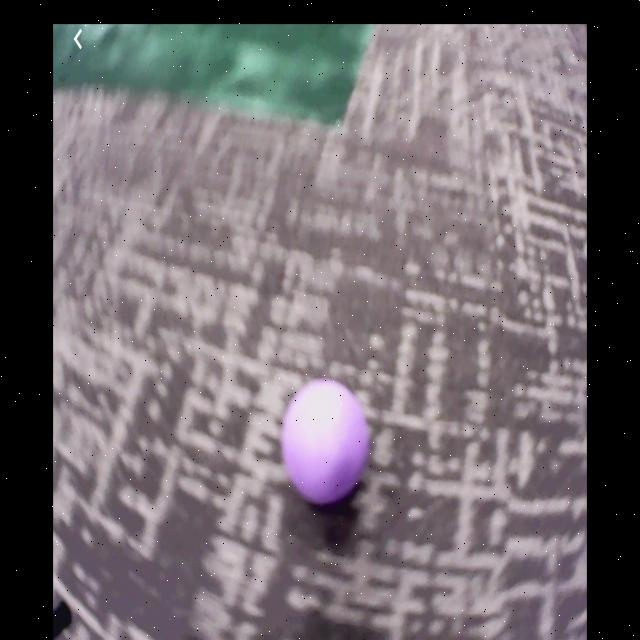ball: (284, 377, 372, 503)
